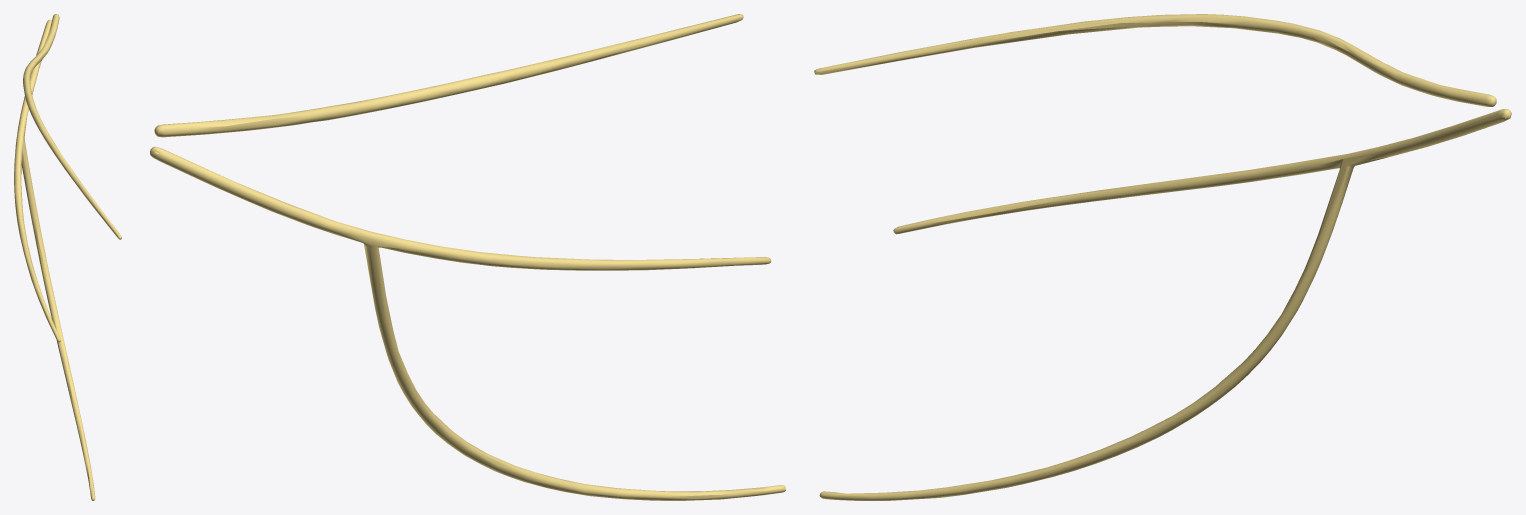
Rendered from fma52825_fj3974.glb.
3 renders of one model, left to right at view 1: azimuth 30°, elevation 25°; view 2: azimuth 150°, elevation 25°; view 3: azimuth 270°, elevation 25°, orthographic. The views are drawn at different scales.
Visible parts, largest first — view 1: FMA52825_FJ3974; view 2: FMA52825_FJ3974; view 3: FMA52825_FJ3974.
Part boxes in pixels (x1=…): FMA52825_FJ3974: x1=14, y1=14, x2=121, y2=500; FMA52825_FJ3974: x1=150, y1=14, x2=785, y2=500; FMA52825_FJ3974: x1=814, y1=14, x2=1511, y2=500.
Size of the model in its own units: 0.0134 by 0.0227 by 0.0269.
